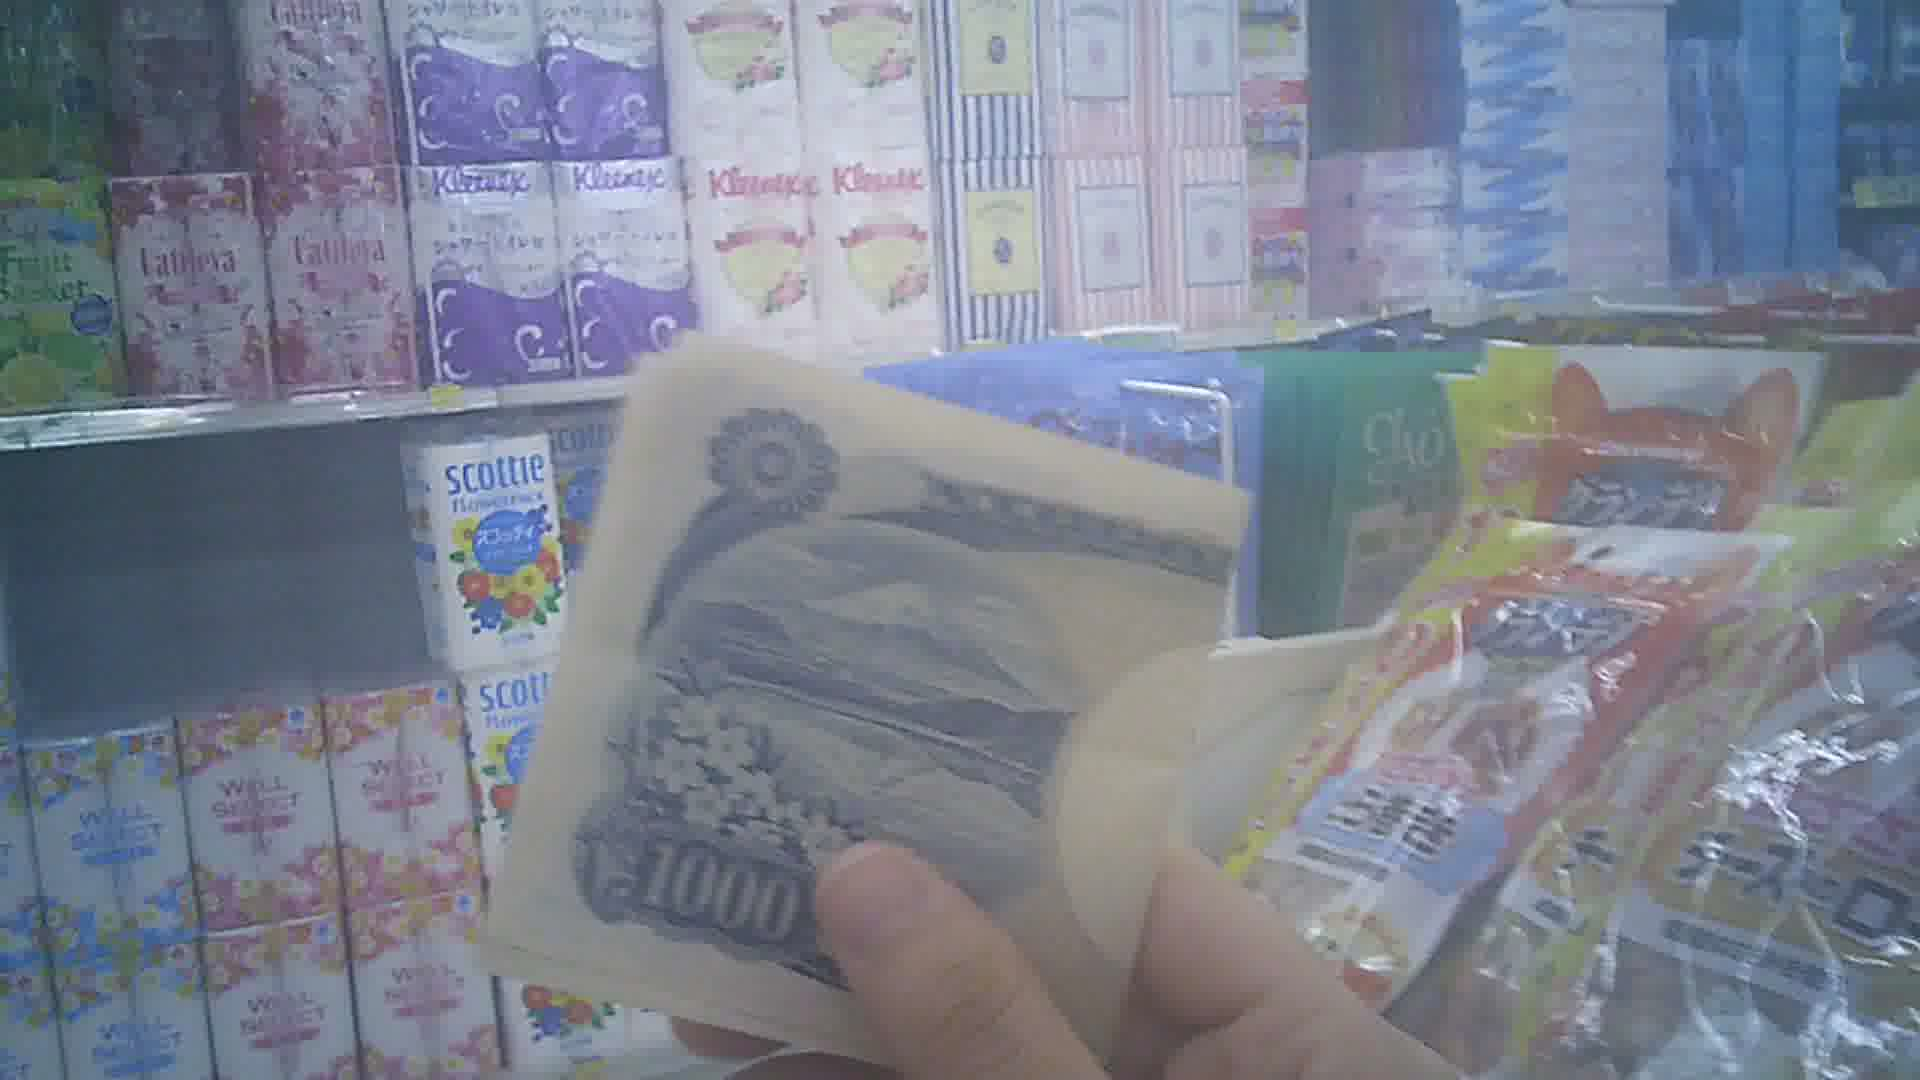1,000 Yen: (429, 309, 1267, 1048)
